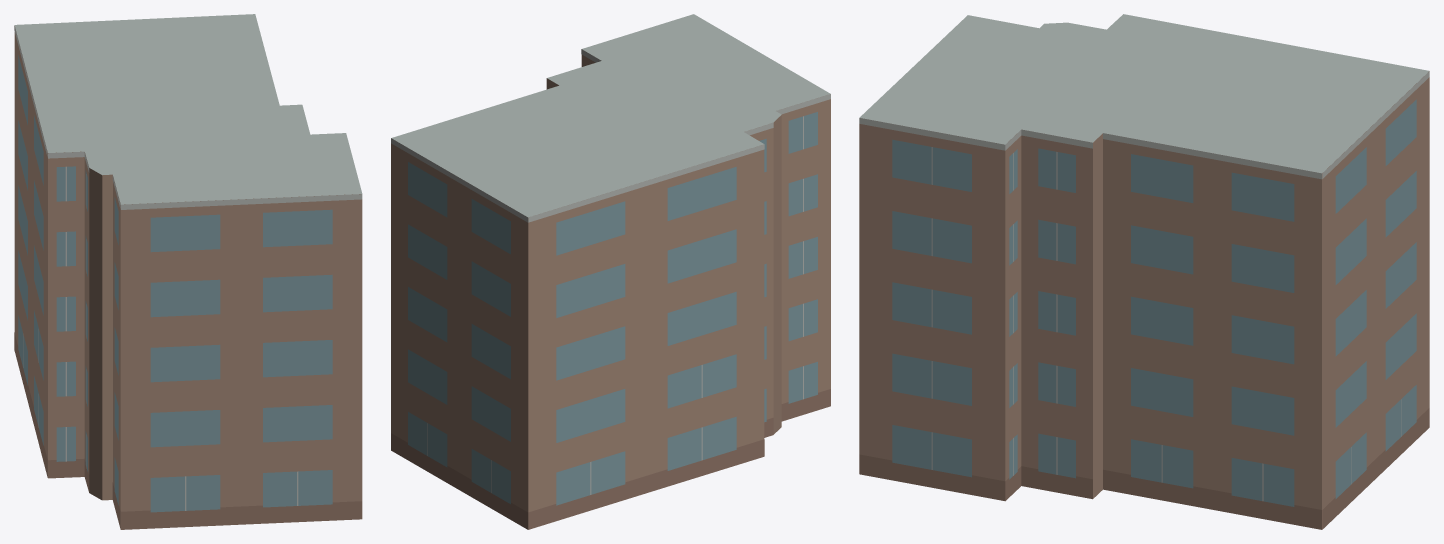
The model's file is survey-upis-32978211.glb.
3 views of the same model, side by side, from view 1: azimuth 30°, elevation 25°; view 2: azimuth 150°, elevation 25°; view 3: azimuth 270°, elevation 25° (orthographic). The views are drawn at different scales.
Parts seen in each view (by area): view 1: survey-upis-32978211.tmp; view 2: survey-upis-32978211.tmp; view 3: survey-upis-32978211.tmp.
Boxes of the visible parts, x1,y1,x2,y2 form: survey-upis-32978211.tmp: [14, 14, 362, 529]; survey-upis-32978211.tmp: [391, 14, 830, 529]; survey-upis-32978211.tmp: [859, 14, 1429, 529].
Bounding box in the file's own units: 13.91 × 14.5 × 21.04.
